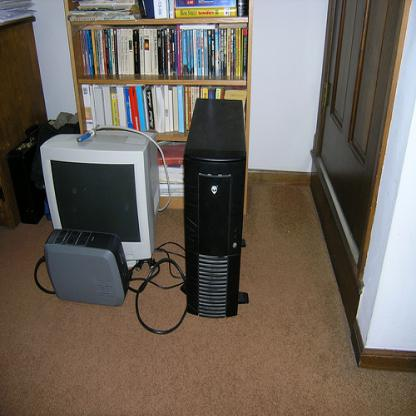tvmonitor: (38, 122, 162, 270)
